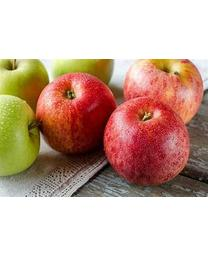apple: (102, 97, 189, 186), (36, 73, 119, 158), (122, 58, 204, 125), (0, 94, 40, 176), (0, 58, 49, 110), (47, 60, 114, 84)
